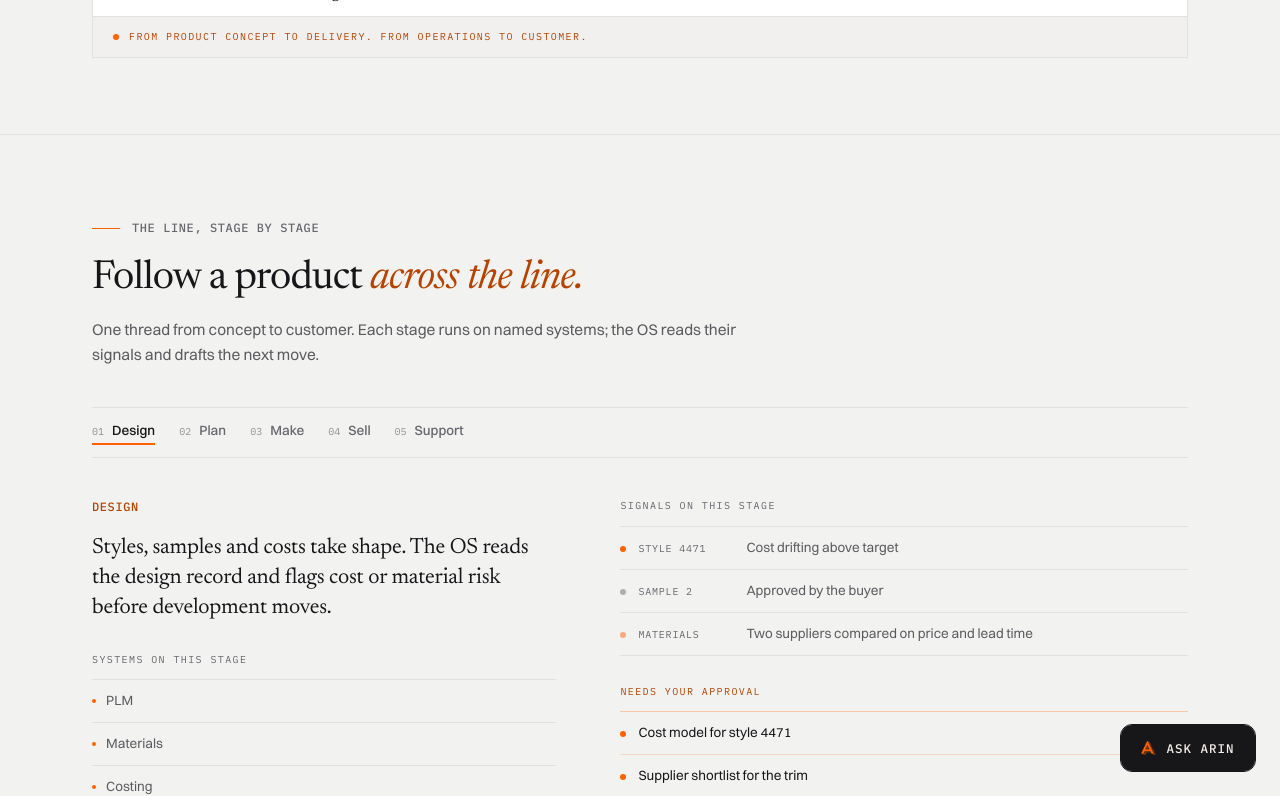
Test: product tour (Fashion & Lifestyle OS) › switches stage consoles on selection
The image size is (1280, 796).
(page scrolled)
Click the button "04 Sell" at (349, 433), box 328,420 -> 371,445
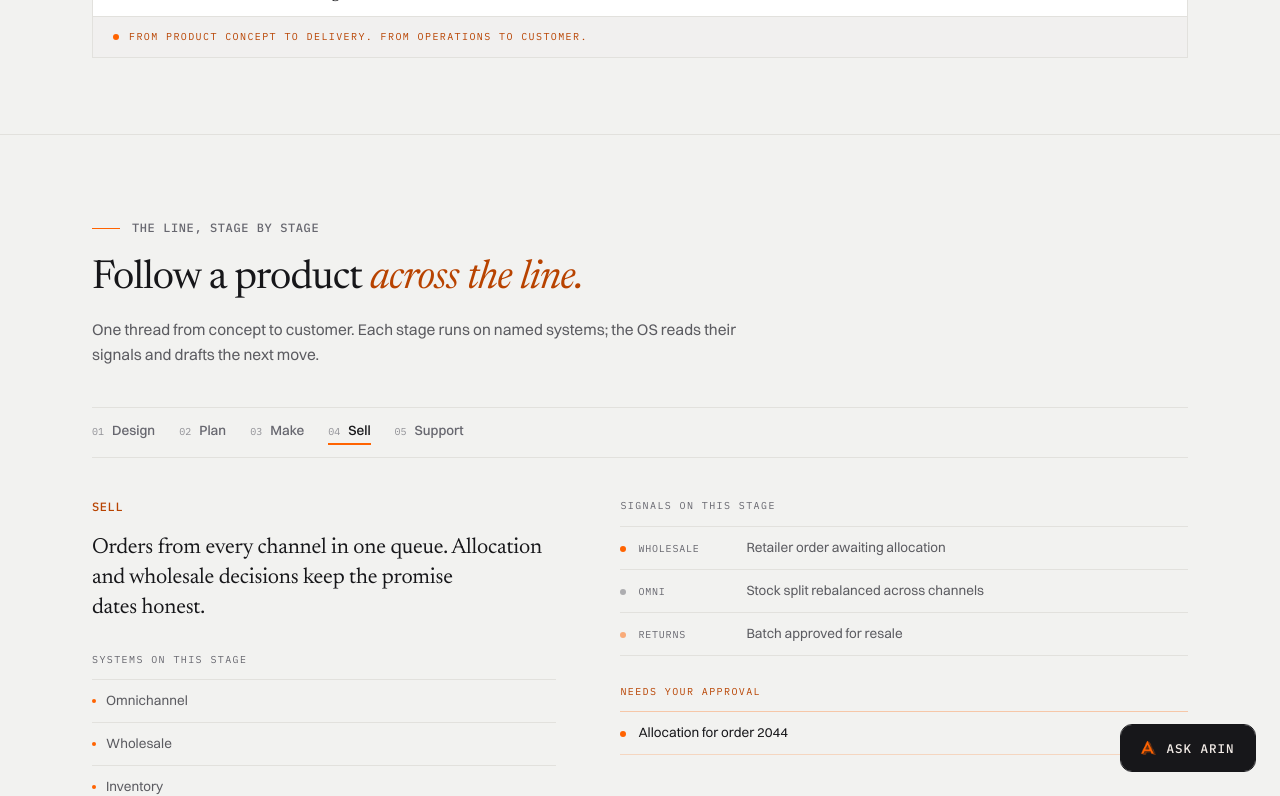
Check: the text "Allocation for order 2044" is shown, box 638,722 -> 788,744
